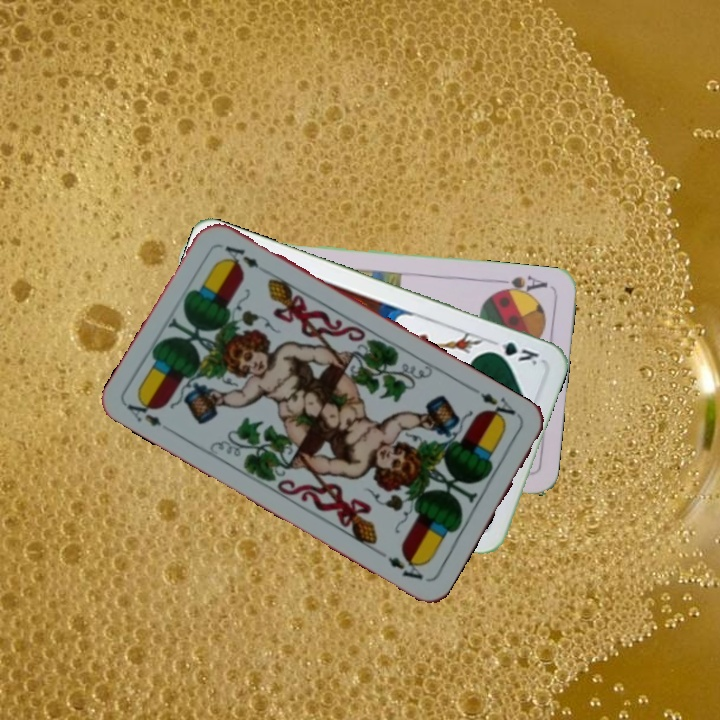EA: (468, 383, 521, 426), (122, 394, 164, 429)
GK: (484, 336, 542, 368)
SA: (491, 271, 551, 299)
